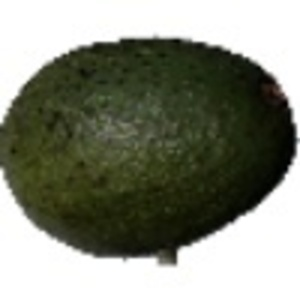abacate: (1, 33, 298, 255)
